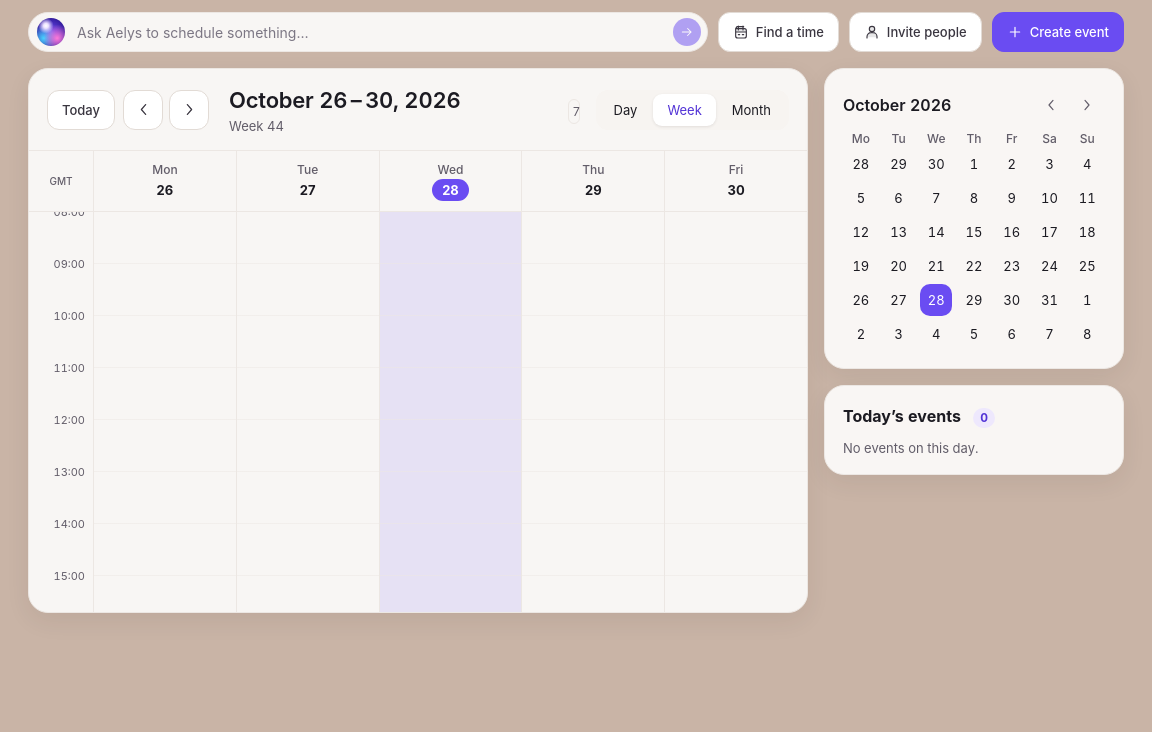
it: calendar event creation › reveals weekend events in the week grid and opens their editor
This screenshot has width=1152, height=732.
(page scrolled)
Click the button "Show weekends". click: (574, 110)
box: [560,94,588,126]
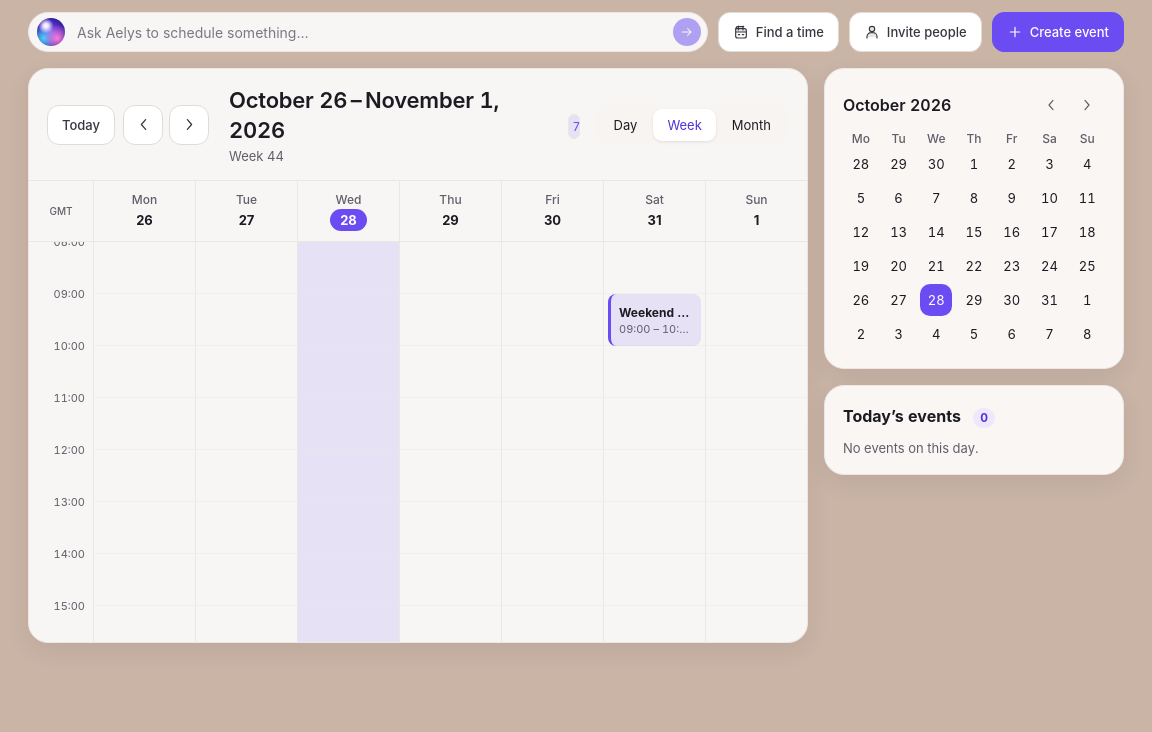
Check: the element with class "cl-show-weekends" is shown, box [28,68,808,643]
Click the button "Weekend event 09:00 – 10:00". click: (654, 320)
box: [608,294,701,346]
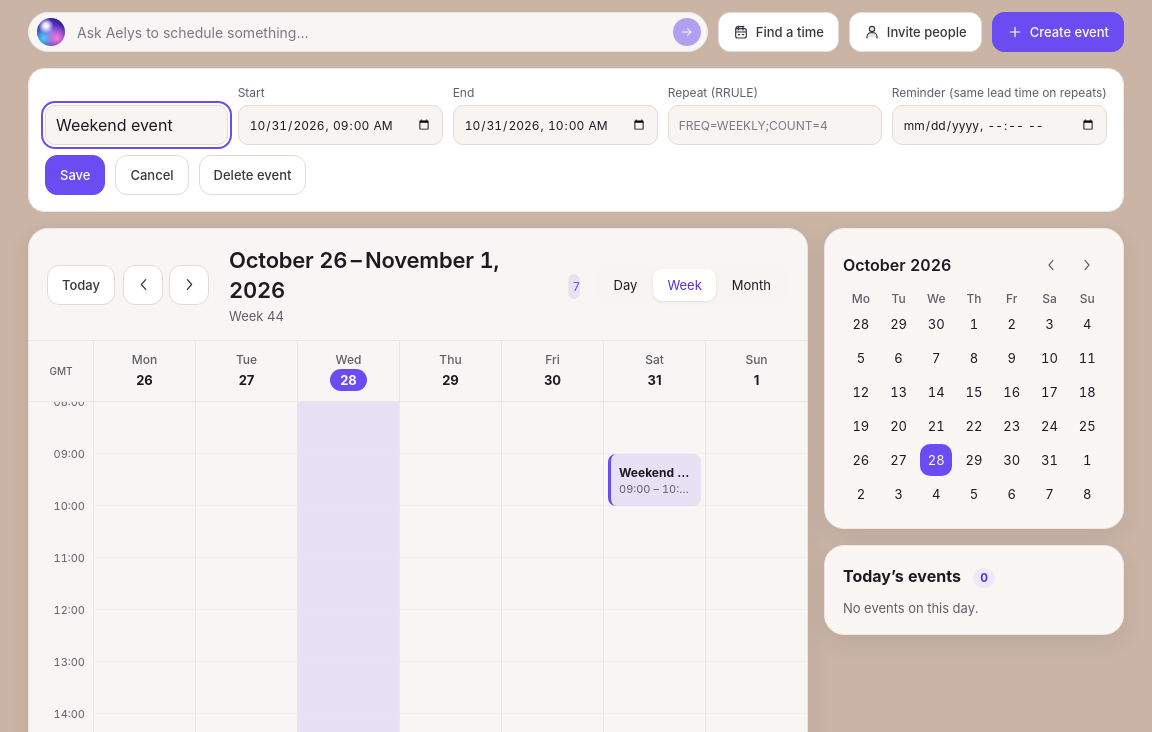
Check: the field named "New event title" holds "Weekend event", box [45,105,228,145]
